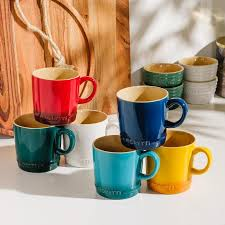mug: (77, 128, 169, 207), (56, 95, 128, 175), (1, 102, 76, 173), (107, 84, 195, 144), (28, 57, 101, 129), (146, 124, 210, 202)
